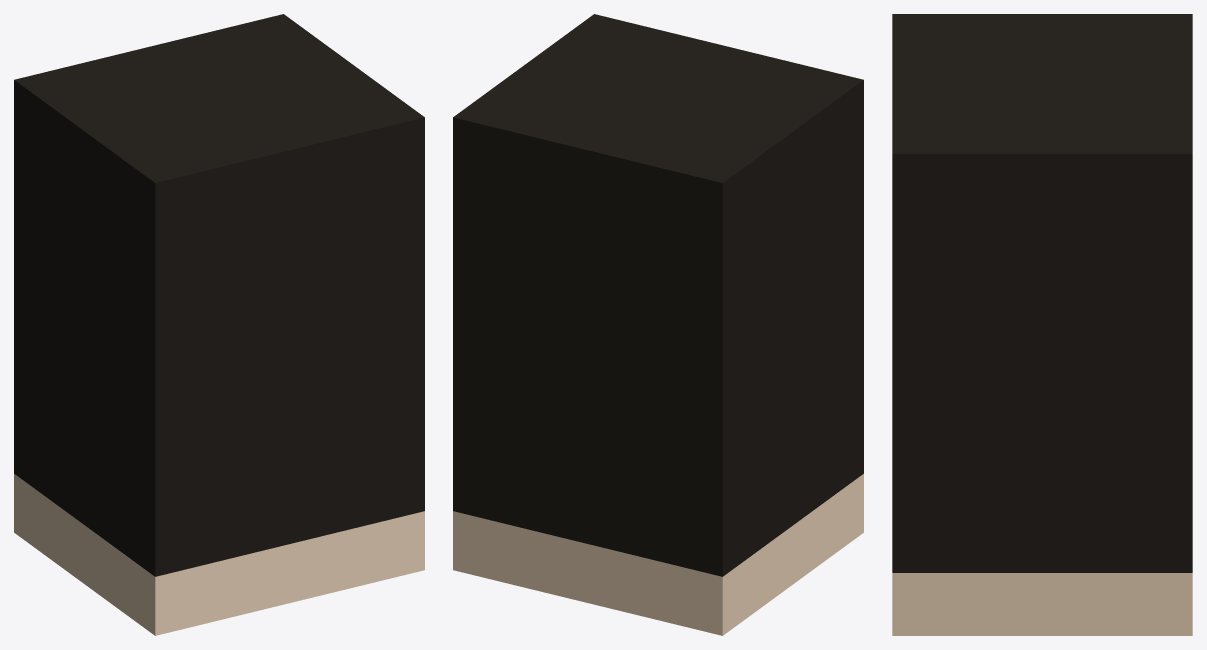
File: noobGirl-1.obj
3 views of the same model, side by side, from view 1: azimuth 30°, elevation 25°; view 2: azimuth 150°, elevation 25°; view 3: azimuth 270°, elevation 25° (orthographic). The views are drawn at different scales.
Bounding box in the file's own units: 4.3 × 6.9 × 3.9.
1 material, 1 textured.
